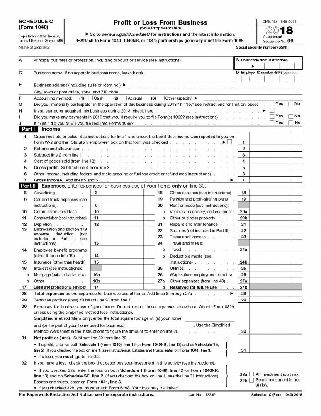checkbox: (158, 94, 166, 101), (268, 100, 276, 107), (287, 100, 295, 107), (287, 119, 295, 126), (268, 119, 276, 126), (267, 113, 275, 120), (225, 138, 233, 145), (247, 370, 255, 377), (86, 95, 94, 101), (120, 95, 128, 101), (286, 113, 294, 119), (268, 107, 276, 113), (247, 377, 255, 383)
textbox: (17, 42, 235, 58), (17, 55, 235, 71), (17, 67, 235, 83), (248, 301, 292, 335), (233, 54, 305, 71), (233, 42, 306, 58), (232, 67, 305, 83), (248, 331, 292, 355), (100, 225, 145, 247), (248, 237, 293, 254), (248, 249, 293, 266), (247, 200, 292, 216), (100, 244, 145, 260), (100, 263, 145, 279), (100, 194, 147, 209), (248, 130, 292, 146), (247, 200, 293, 215), (289, 301, 305, 335), (247, 193, 294, 203), (247, 262, 294, 272), (247, 143, 294, 152), (246, 149, 293, 158), (246, 155, 293, 164), (246, 188, 293, 197), (247, 213, 294, 222), (247, 225, 294, 234), (246, 288, 293, 297), (247, 162, 293, 171), (247, 168, 293, 177), (247, 174, 293, 183), (247, 219, 293, 228), (248, 231, 294, 240), (248, 269, 294, 278), (247, 276, 293, 285), (248, 281, 294, 290), (248, 294, 294, 303), (100, 207, 145, 216), (101, 213, 146, 222), (101, 218, 146, 227), (100, 275, 145, 284), (100, 282, 145, 291), (100, 257, 145, 265), (290, 332, 305, 355), (101, 188, 144, 196), (142, 225, 157, 247), (289, 250, 307, 266), (289, 200, 306, 216), (289, 237, 306, 253), (143, 242, 157, 260), (143, 261, 157, 279), (289, 131, 303, 146), (142, 194, 156, 209), (290, 212, 306, 222), (289, 225, 305, 235), (289, 262, 305, 272), (289, 269, 305, 279), (289, 275, 305, 285), (291, 186, 306, 196), (290, 193, 305, 203), (290, 219, 305, 229), (290, 231, 305, 241), (289, 281, 304, 291), (289, 289, 304, 299), (289, 294, 304, 304), (290, 143, 304, 152), (290, 162, 304, 171), (289, 168, 303, 177), (289, 174, 303, 183), (142, 188, 157, 196), (142, 276, 157, 284), (142, 283, 157, 291), (291, 149, 304, 158), (291, 156, 304, 165), (142, 214, 156, 222), (142, 219, 156, 227), (142, 257, 156, 265), (142, 208, 156, 215)
textline: (125, 80, 304, 90), (127, 86, 306, 95), (201, 93, 306, 102), (125, 321, 195, 328), (181, 315, 236, 323)
